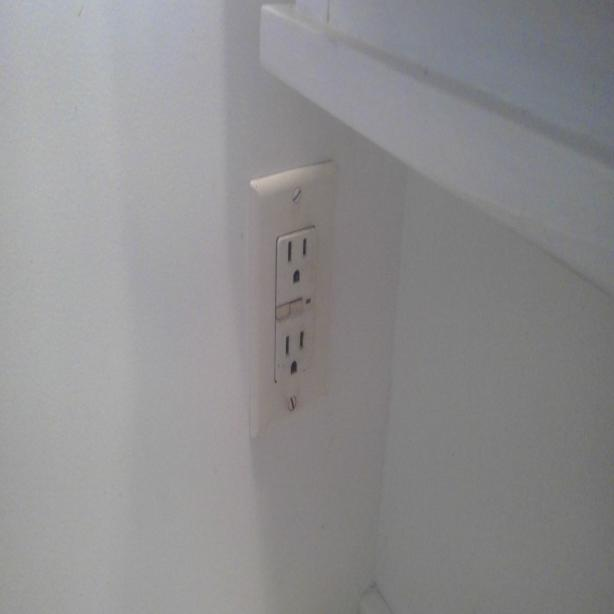typeb: (273, 231, 316, 298), (275, 316, 314, 382)
